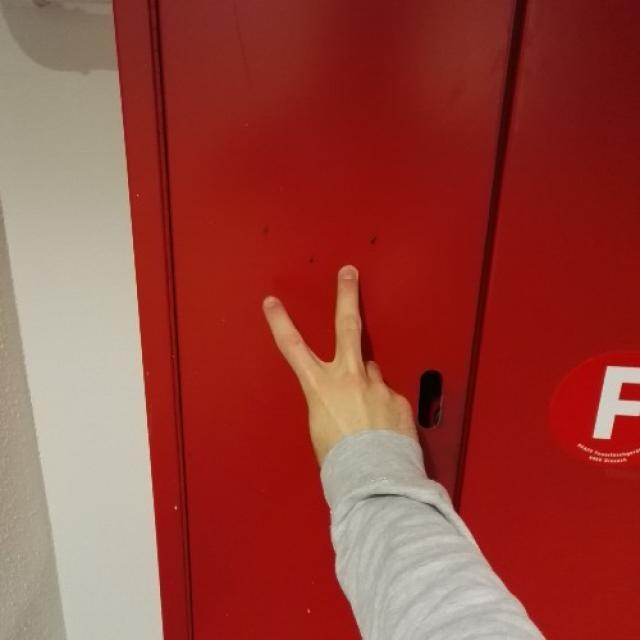scissors: (266, 262, 418, 447)
